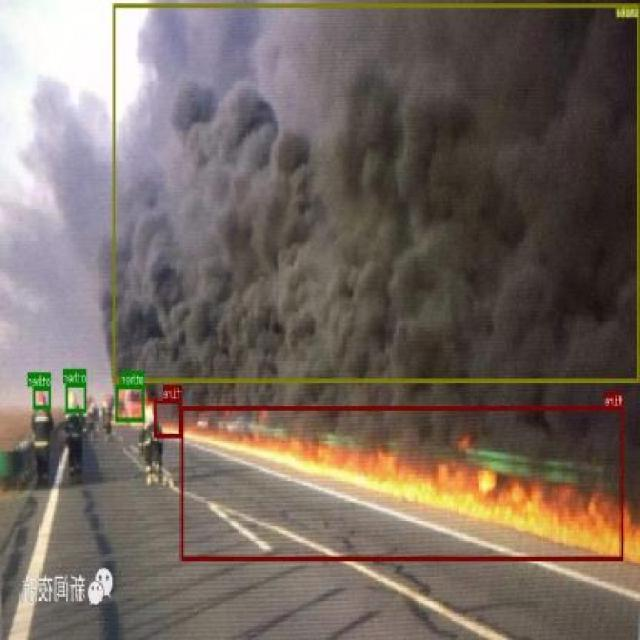Fire: (182, 406, 624, 560), (154, 398, 182, 437)
Smoke: (114, 3, 640, 382)
